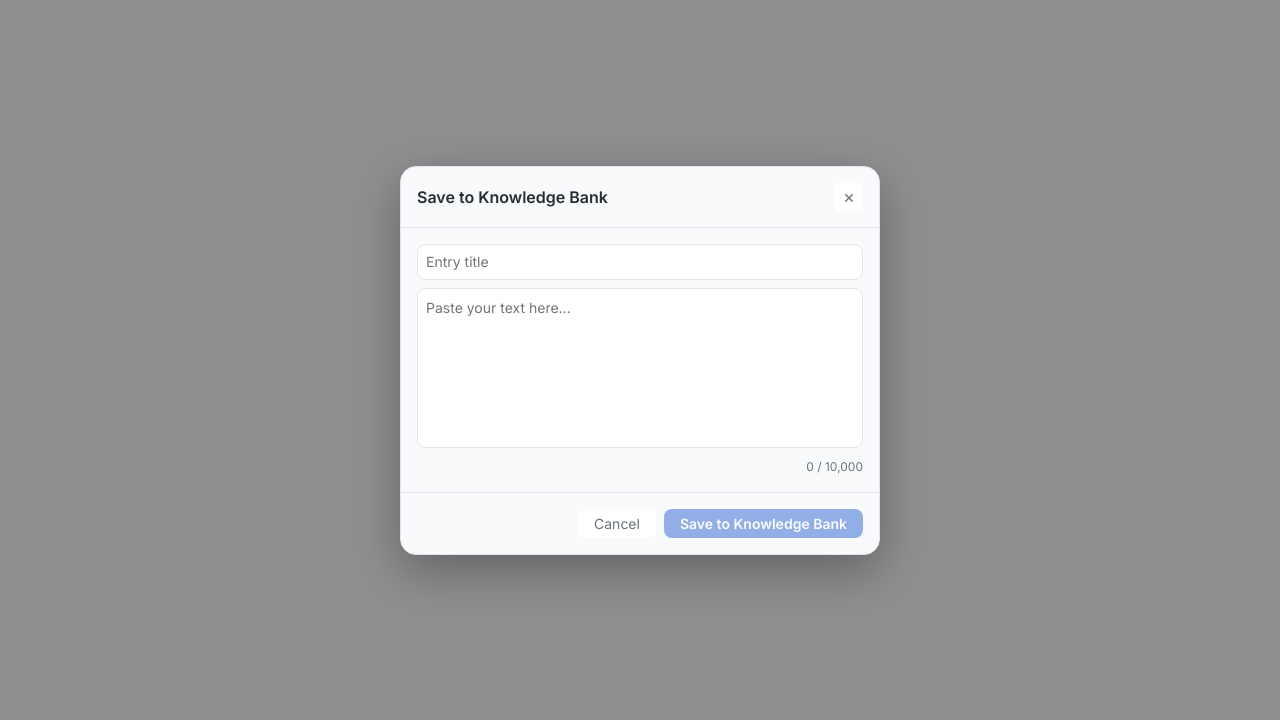
it: PasteTextModal › updates character count on input
Type "Hello" into the text box with placeholder "Paste your text here..." at (640, 368), box [417,288,863,448]
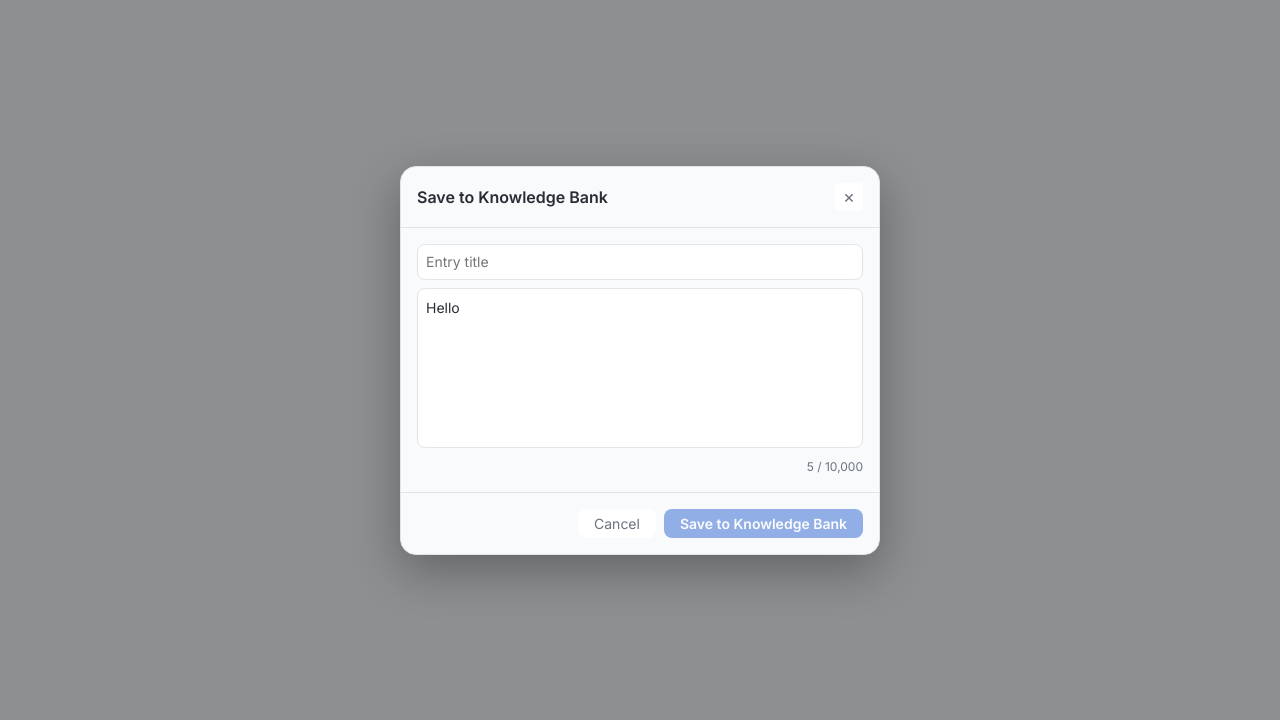
Now the text "5 / 10,000" is shown, box [807,458,863,474]
